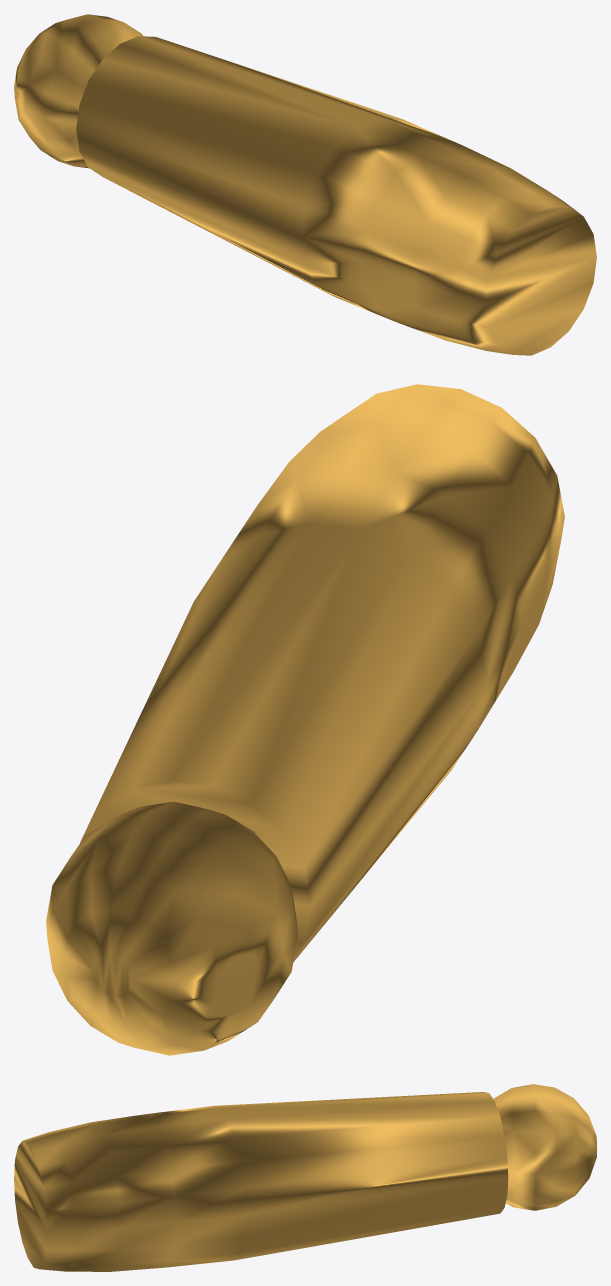
The model's file is upper_arm.dae.
3 views of the same model, one above another, from view 1: azimuth 30°, elevation 25°; view 2: azimuth 150°, elevation 25°; view 3: azimuth 270°, elevation 25° (orthographic). The views are drawn at different scales.
Visible parts, largest first — view 1: Node_000001D54C244050; view 2: Node_000001D54C244050; view 3: Node_000001D54C244050.
Part boxes in pixels (left/top/right/bottom): Node_000001D54C244050: left=14, top=14, right=596, bottom=355; Node_000001D54C244050: left=46, top=384, right=564, bottom=1055; Node_000001D54C244050: left=14, top=1084, right=596, bottom=1271.
Size of the model in its own units: 0.1456 by 0.0854 by 0.3233.
